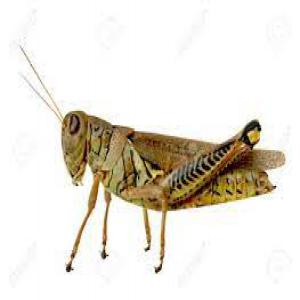locust: (41, 77, 300, 248)
